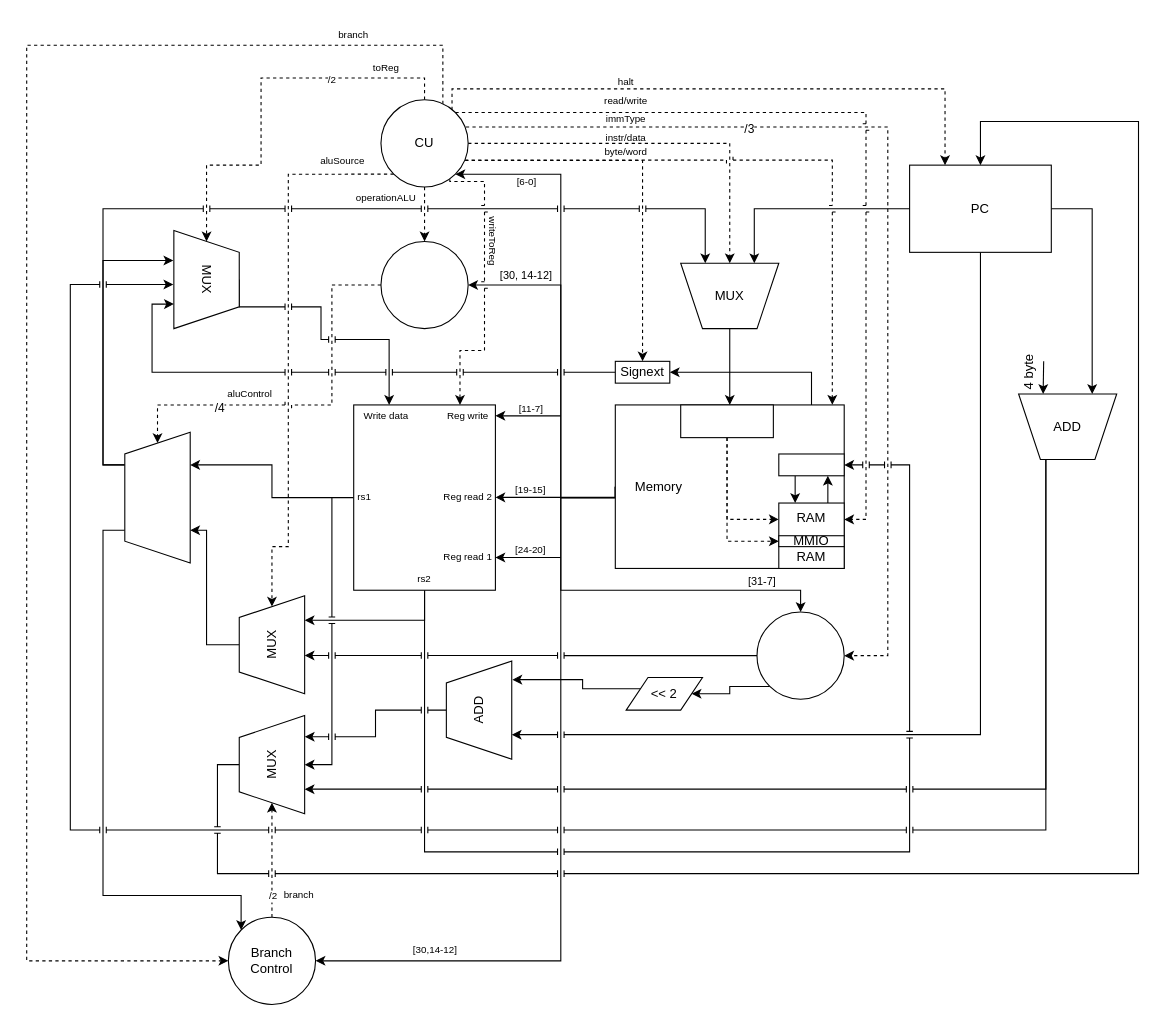
The diagram is 1166 pixels wide and 1024 high, and some of its shapes have lost their labels. Each missing label, with the centre of its shape:
"Address decoder" belongs at pixel 726 421.
"ALU" belongs at pixel 157 497.
"ALU Control" belongs at pixel 424 284.
"Immediate Generator" belongs at pixel 800 655.
"in / out" belongs at pixel 811 464.
